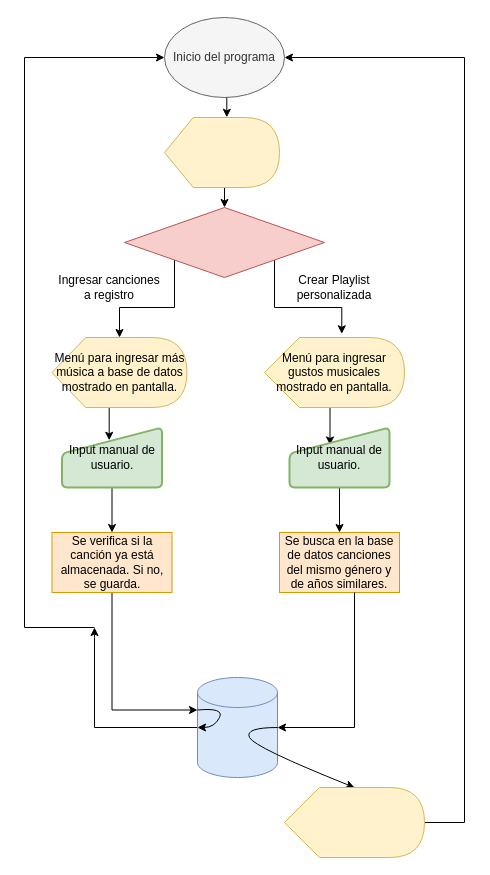
Some shapes in this 490 by 875 pixel diagram are drawn without their labels. Here are the shapes that lost their labels. From the top down, the centre of each, then its label:
point (222, 152): Menú Principal mostrado en pantalla.
point (224, 242): 2 Botones
point (354, 822): Se presenta en la pantalla la playlist personalizada.
